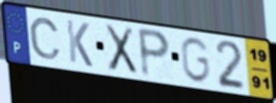2: (213, 39, 247, 92)
C: (28, 16, 63, 61)
G: (178, 35, 212, 85)
K: (64, 17, 95, 69)
P: (136, 25, 173, 80)
X: (103, 23, 139, 76)
